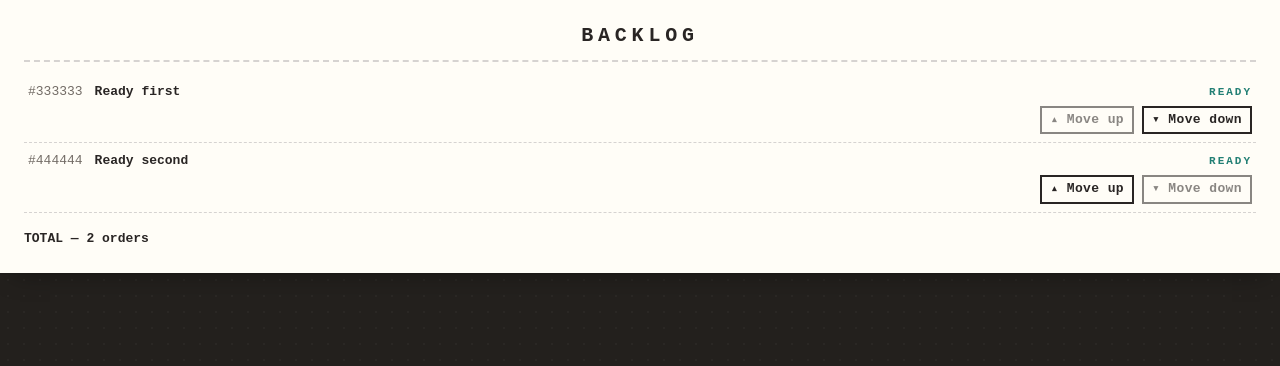
Test: TicketList › reordering › shows Galley's rejection verbatim and refetches the order
Click the 2nd button "▴ Move up": [1087, 189] box left=1040, top=175, right=1134, bottom=204
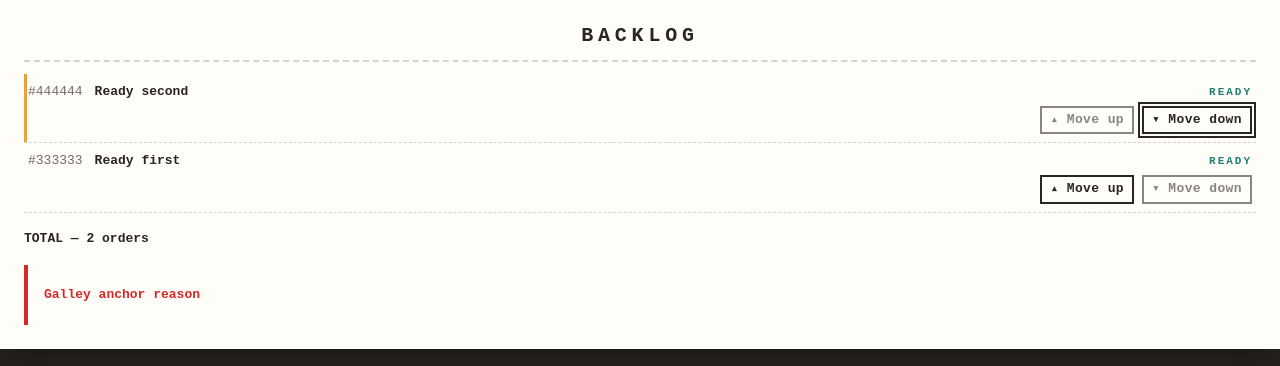
Result: the message with test id "ticket-list-reorder-error" reads "Galley anchor reason" at left=44, top=287, right=200, bottom=302
